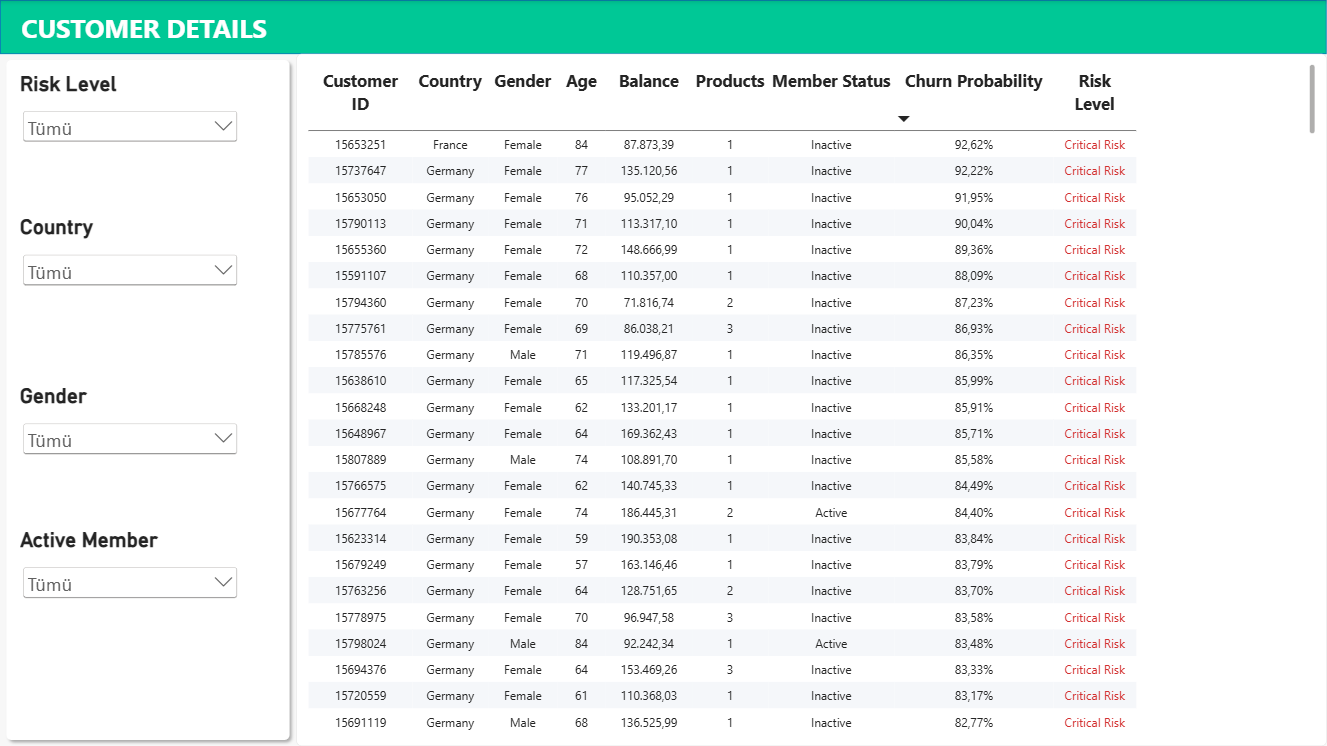

The page's visual inventory and layout, read from the dashboard file:
{"tool":"powerbi","page":{"name":"Customer Details","canvas":[1920,1080],"ordinal":2},"visuals":[{"type":"shape","box":[0,78.2,428.1,1002.4],"z":0},{"type":"shape","box":[0,0,1920.4,78.3],"z":1000},{"type":"textbox","box":[0,14.4,1920.4,63.8],"z":2000},{"type":"tableEx","fields":{"Values":["customer_churn_powerbi.customer_id","customer_churn_powerbi.country","customer_churn_powerbi.gender","customer_churn_powerbi.age","customer_churn_powerbi.balance","customer_churn_powerbi.products_number","customer_churn_powerbi.Member Status","customer_churn_powerbi.Churn Probability Display","customer_churn_powerbi.model_risk_level"]},"box":[428.1,78.2,1492.3,1002.4],"z":3000},{"type":"actionButton","box":[0,0,100,40],"z":4000},{"type":"slicer","title":"Risk Level","fields":{"Values":["customer_churn_powerbi.model_risk_level"]},"box":[28.8,102.9,319,177],"z":5000},{"type":"slicer","title":"Country","fields":{"Values":["customer_churn_powerbi.country"]},"box":[28.8,310.8,319,214.1],"z":6000},{"type":"slicer","title":"Gender","fields":{"Values":["customer_churn_powerbi.gender"]},"box":[28.8,555.7,319,177],"z":7000},{"type":"slicer","title":"Active Member","fields":{"Values":["customer_churn_powerbi.active_member"]},"box":[28.8,763.6,319,201.7],"z":8000}]}

Visuals, with their boxes in screenshot pixels (x1, y1, x2, y2), scaled from the page's 1920x1080 canvas onto the 1327x746 screenshot:
shape: (0, 54, 296, 745)
shape: (0, 0, 1326, 54)
textbox: (0, 10, 1326, 54)
tableEx - customer_churn_powerbi.customer_id x customer_churn_powerbi.country: (296, 54, 1326, 745)
actionButton: (0, 0, 69, 28)
"Risk Level" slicer: (20, 71, 240, 193)
"Country" slicer: (20, 215, 240, 363)
"Gender" slicer: (20, 384, 240, 506)
"Active Member" slicer: (20, 527, 240, 667)
